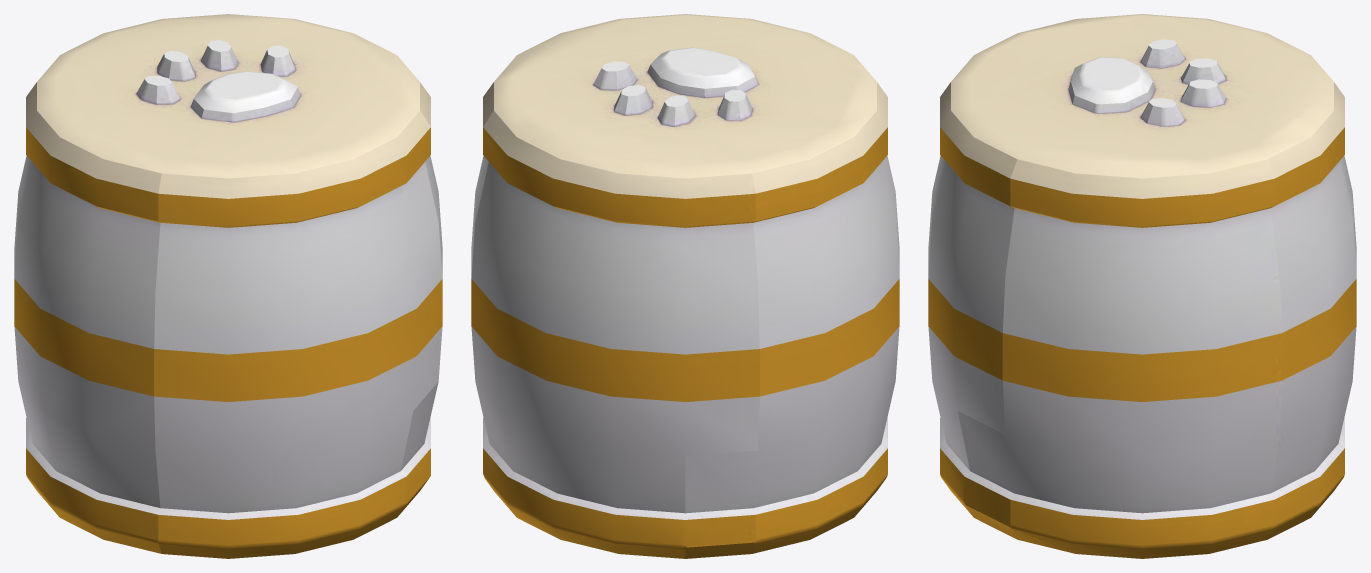
The model's file is fici.glb.
3 views of the same model, side by side, from view 1: azimuth 30°, elevation 25°; view 2: azimuth 150°, elevation 25°; view 3: azimuth 270°, elevation 25° (orthographic).
Visible parts, largest first — view 1: fici; view 2: fici; view 3: fici.
Part boxes in pixels (x1=…): fici: x1=14, y1=14, x2=442, y2=558; fici: x1=471, y1=14, x2=899, y2=558; fici: x1=928, y1=14, x2=1356, y2=558.
Size of the model in its own units: 1.54 by 1.66 by 1.52.
Materials: 1 (1 with a texture image).
